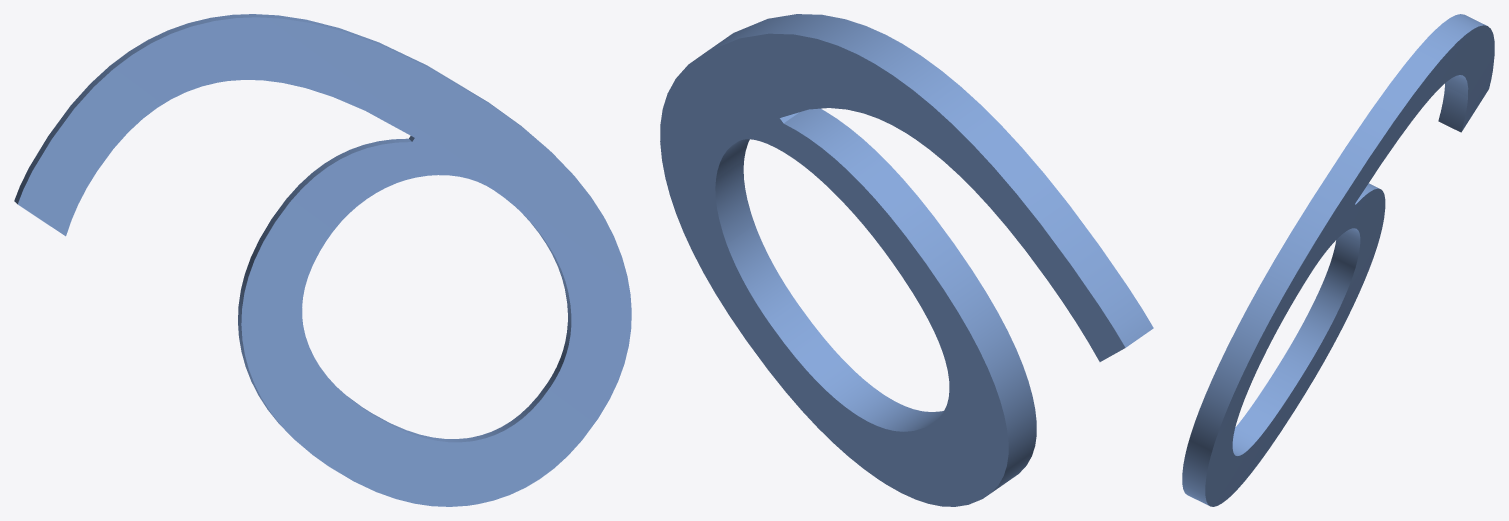
File: New_Number_6.gltf
3 views of the same model, side by side, from view 1: azimuth 30°, elevation 25°; view 2: azimuth 150°, elevation 25°; view 3: azimuth 270°, elevation 25° (orthographic). The views are drawn at different scales.
Visible parts, largest first — view 1: Part 519; view 2: Part 519; view 3: Part 519.
Part boxes in pixels (x1,y1,x2,y2): Part 519: [14, 14, 631, 506]; Part 519: [660, 14, 1153, 506]; Part 519: [1182, 14, 1494, 506].
Size of the model in its own units: 0.00512 by 0.0044 by 0.00303.
